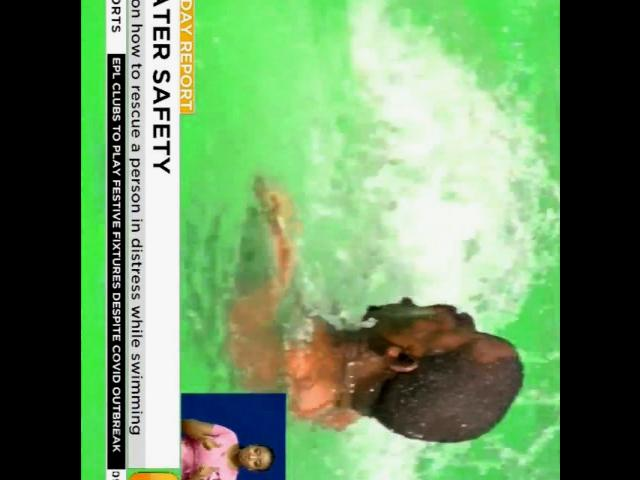swimming: (263, 242, 519, 446)
